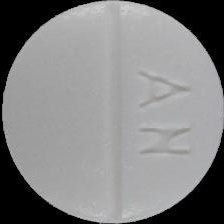68788-9762: (0, 0, 224, 224)
